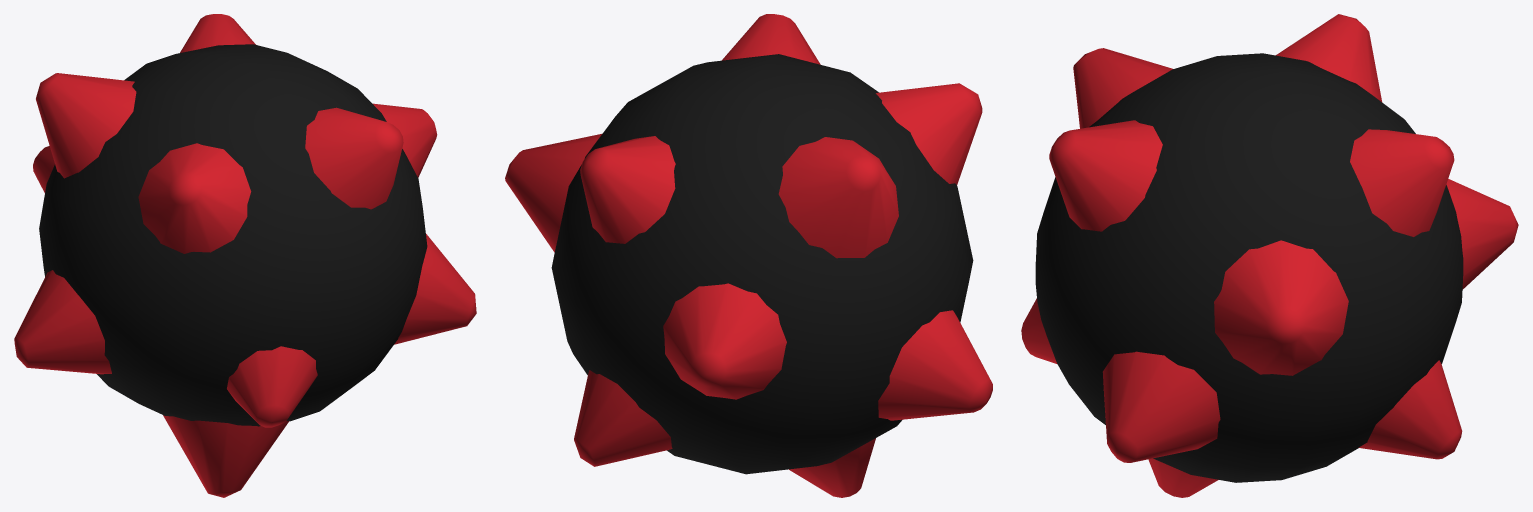
The model's file is chong.fbx.
3 renders of one model, left to right at view 1: azimuth 30°, elevation 25°; view 2: azimuth 150°, elevation 25°; view 3: azimuth 270°, elevation 25°, orthographic. The views are drawn at different scales.
Visible parts, largest first — view 1: spikeBallSingle; view 2: spikeBallSingle; view 3: spikeBallSingle.
Part boxes in pixels (left/top/right/bottom): spikeBallSingle: left=14, top=14, right=476, bottom=497; spikeBallSingle: left=505, top=14, right=992, bottom=497; spikeBallSingle: left=1021, top=14, right=1518, bottom=497.
Size of the model in its own units: 137 by 122 by 124.
